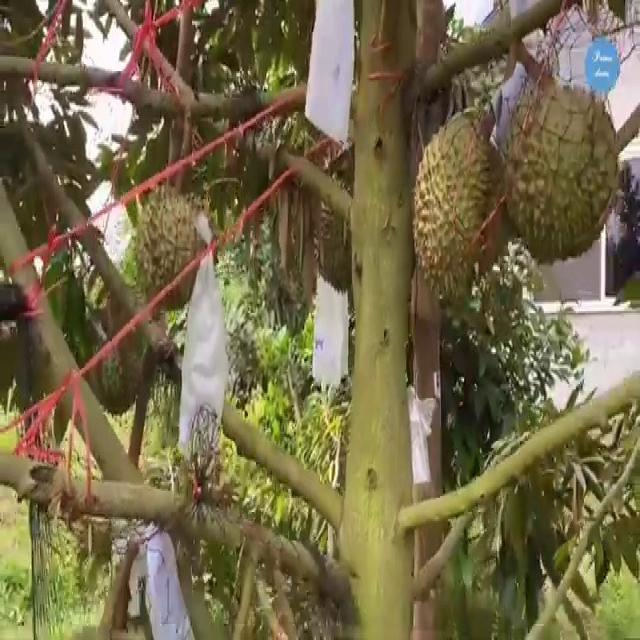durian: (500, 73, 623, 270), (408, 106, 514, 316), (132, 182, 219, 308)
